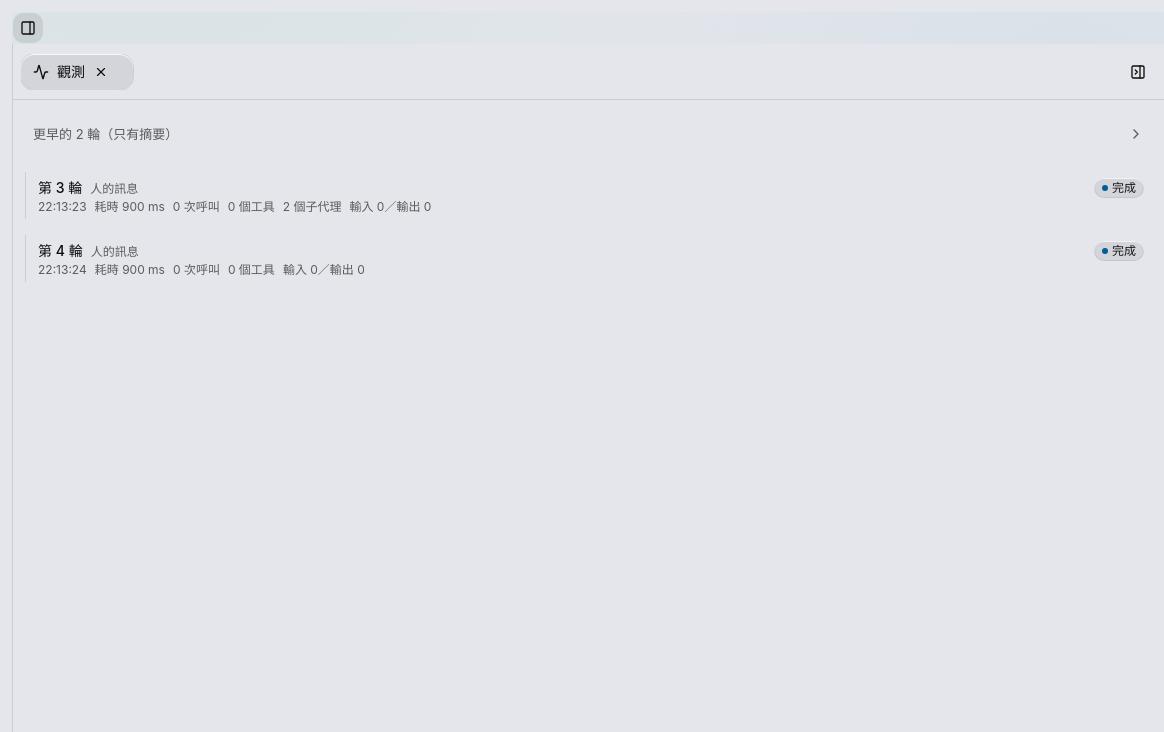
子代理數 › 摘要列與完整輪的標題：有派子代理才寫「N 個子代理」，沒有就不寫
Click the button "更早的 2 輪（只有摘要）": (54, 134) [25,112,1152,156]
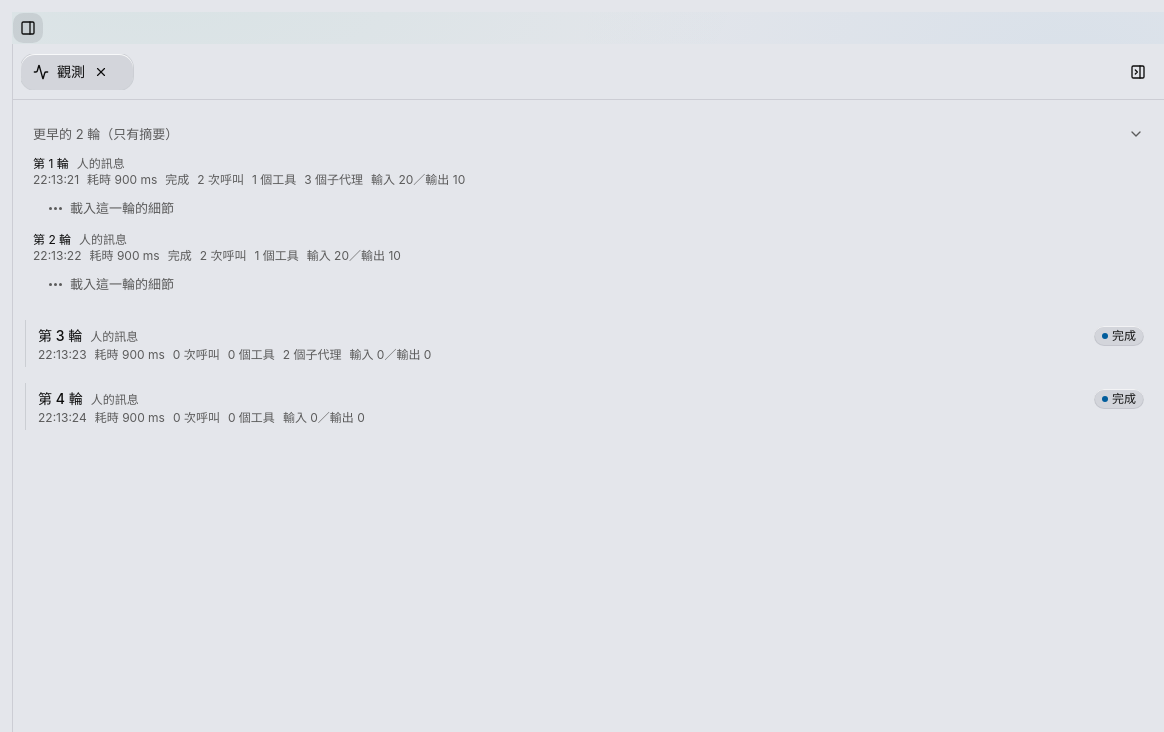
Expected: the text with test id "trace-subagent-count" reads "2 個子代理", [283,347,341,363]
Expected: the text with test id "trace-subagent-count" reads "3 個子代理", [304,172,363,188]
